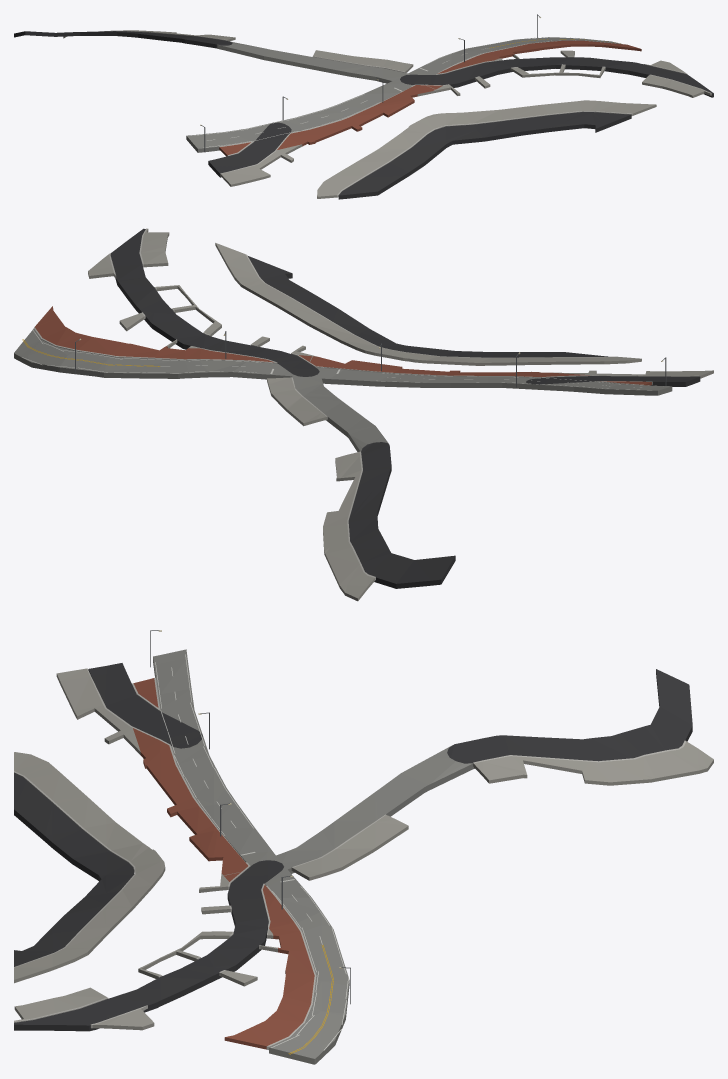
The picture shows the model from 3 angles, top to bottom: view 1: azimuth 30°, elevation 25°; view 2: azimuth 150°, elevation 25°; view 3: azimuth 270°, elevation 25°; orthographic projection. The views are drawn at different scales.
Size of the model in its own units: 147 by 21.55 by 130.
